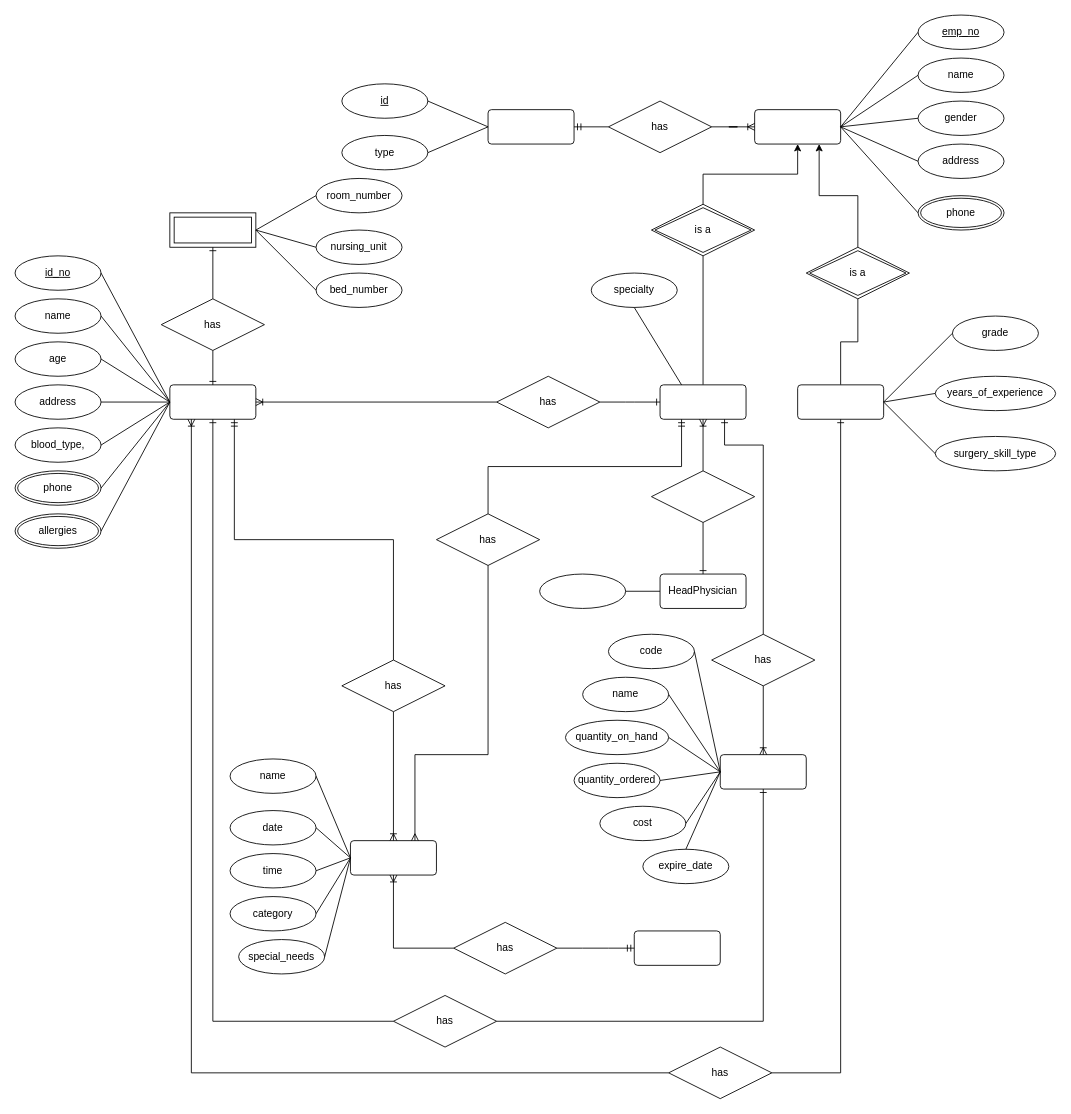
Some shapes in this 1071 by 1114 pixel diagram are drawn without their labels. Here are the shapes that lost their labels. From the top down, the box of each, then its label:
(487, 109, 574, 144): EmployeeType
(754, 109, 841, 144): Employee
(169, 212, 256, 247): Location
(169, 384, 256, 419): Patient
(659, 384, 746, 419): Physician
(797, 384, 884, 419): Nurse
(651, 470, 755, 522): monitor
(539, 573, 626, 608): hp_number
(719, 754, 806, 789): Medication
(350, 840, 436, 875): Surgery
(633, 930, 720, 965): Theatre
